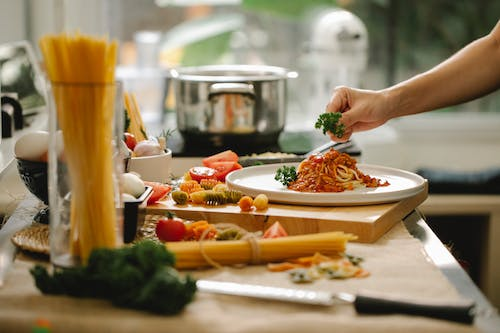knife: (195, 277, 478, 327)
